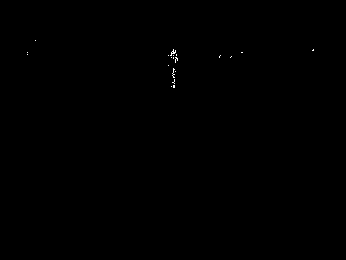person: (166, 48, 181, 90)
